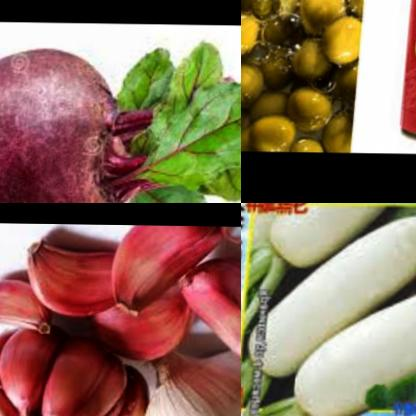beet: (0, 41, 150, 203)
garlic: (0, 318, 162, 416), (108, 224, 241, 318), (22, 235, 124, 315), (171, 260, 241, 365), (88, 291, 192, 359), (139, 348, 241, 416), (0, 275, 63, 341)
peas: (241, 0, 372, 150)
redka: (246, 203, 416, 373), (289, 261, 416, 416), (250, 203, 386, 275)
